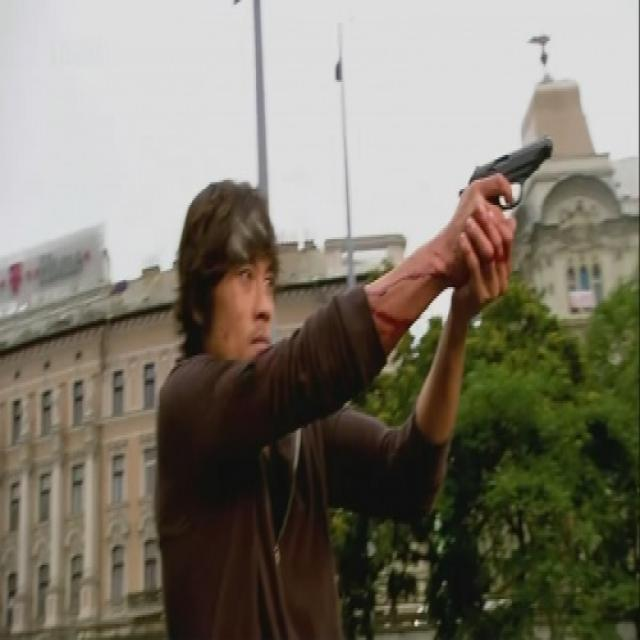weapons: (453, 118, 559, 307)
